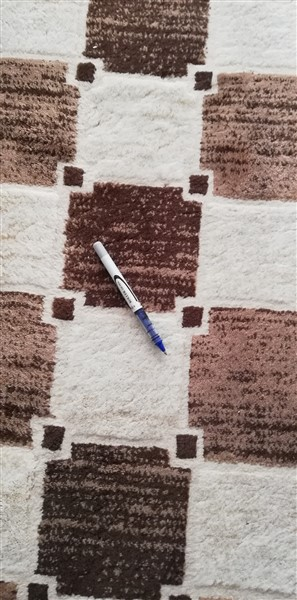pilot kalem: (87, 238, 172, 359)
